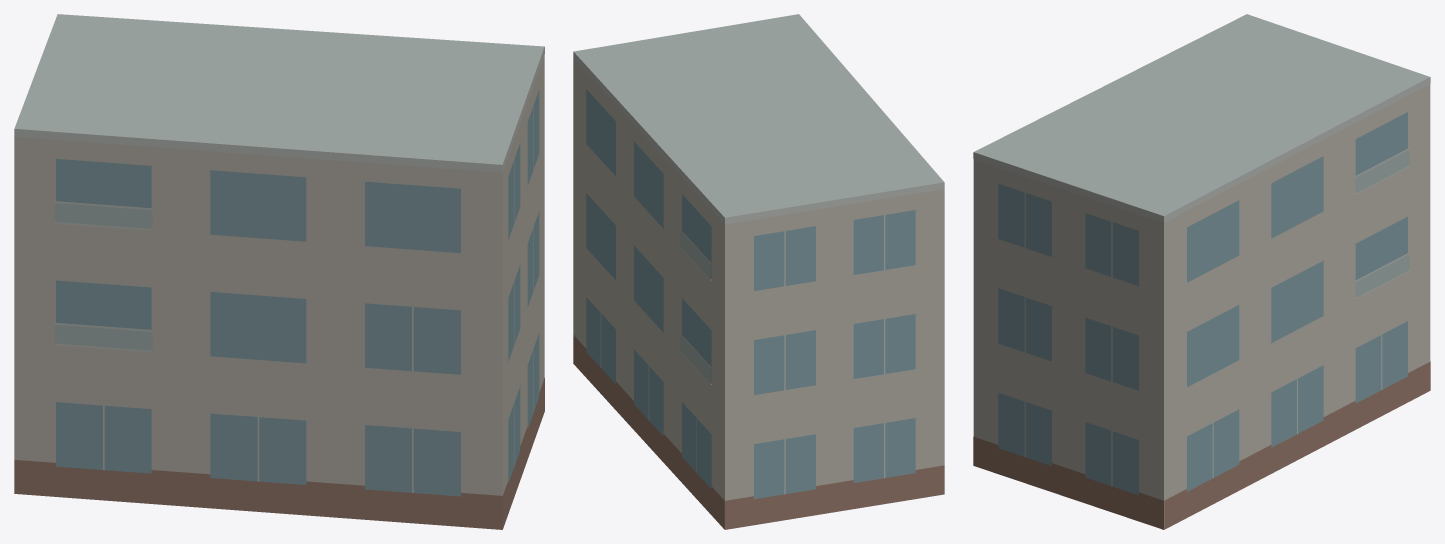
Rendered from survey-upis-32719330.glb.
The picture shows the model from 3 angles, left to right: view 1: azimuth 30°, elevation 25°; view 2: azimuth 150°, elevation 25°; view 3: azimuth 270°, elevation 25°; orthographic projection. The views are drawn at different scales.
Parts seen in each view (by area): view 1: survey-upis-32719330.tmp; view 2: survey-upis-32719330.tmp; view 3: survey-upis-32719330.tmp.
Part boxes in pixels (box(x1,y1,x2,y2)): survey-upis-32719330.tmp: box(14, 14, 544, 529); survey-upis-32719330.tmp: box(573, 14, 944, 529); survey-upis-32719330.tmp: box(973, 14, 1430, 529).
Size of the model in its own units: 15.63 by 11.3 by 14.93.
